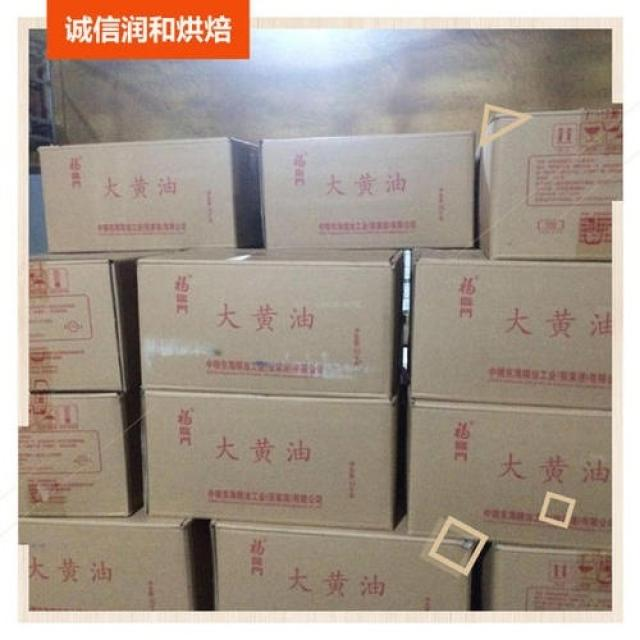box: (138, 246, 404, 398), (141, 383, 404, 530), (407, 247, 612, 410), (404, 396, 611, 552), (210, 513, 476, 611), (38, 138, 264, 252), (257, 132, 475, 250), (475, 108, 623, 261), (29, 250, 173, 393), (19, 507, 214, 611), (18, 389, 143, 518), (479, 543, 611, 611)
